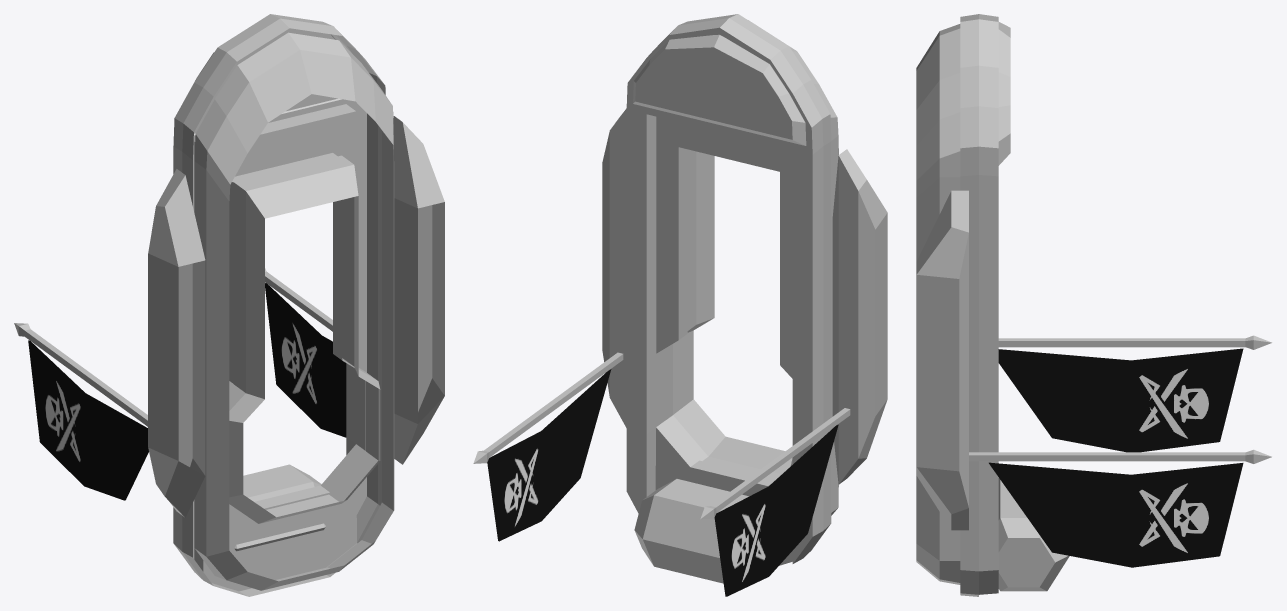
The model's file is gas_my_0_body.fbx.
3 renders of one model, left to right at view 1: azimuth 30°, elevation 25°; view 2: azimuth 150°, elevation 25°; view 3: azimuth 270°, elevation 25°, orthographic. The views are drawn at different scales.
Visible parts, largest first — view 1: Cube.430; view 2: Cube.430; view 3: Cube.430.
Boxes of the visible parts, bbox=[...] form: Cube.430: bbox=[14, 14, 444, 596]; Cube.430: bbox=[473, 14, 887, 596]; Cube.430: bbox=[916, 14, 1271, 596].
Bounding box in the file's own units: 356 × 673 × 390.
